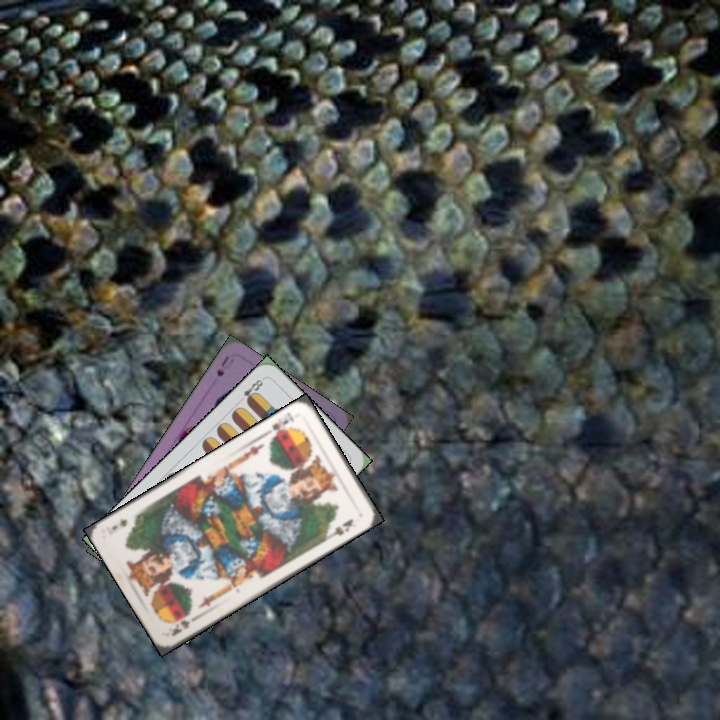E8: (234, 374, 267, 406)
SK: (267, 408, 296, 441), (167, 613, 199, 639)
SU: (212, 352, 236, 379)
